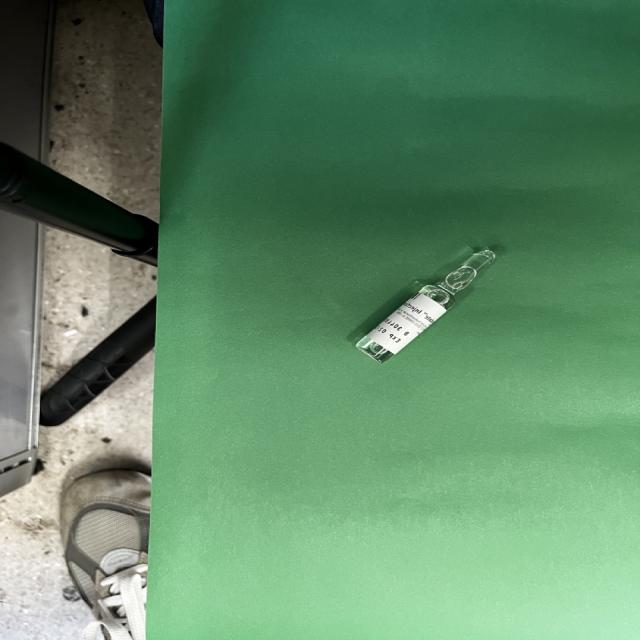Ampoules: (355, 248, 495, 362)
